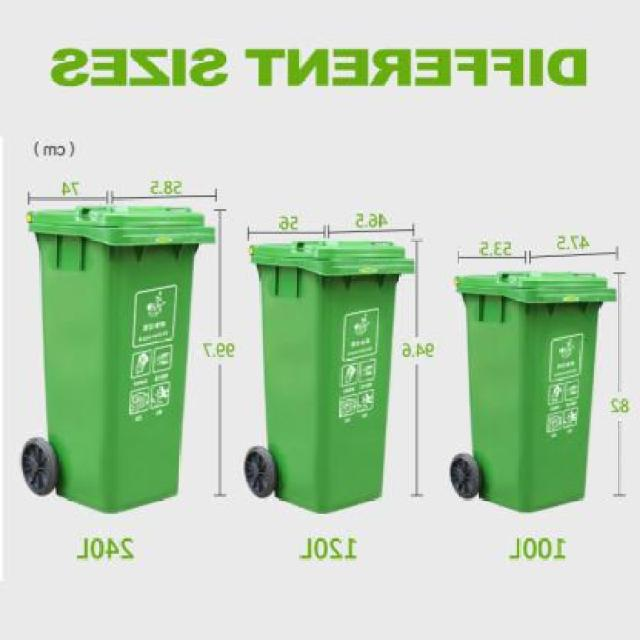garbage container: (14, 205, 218, 524)
